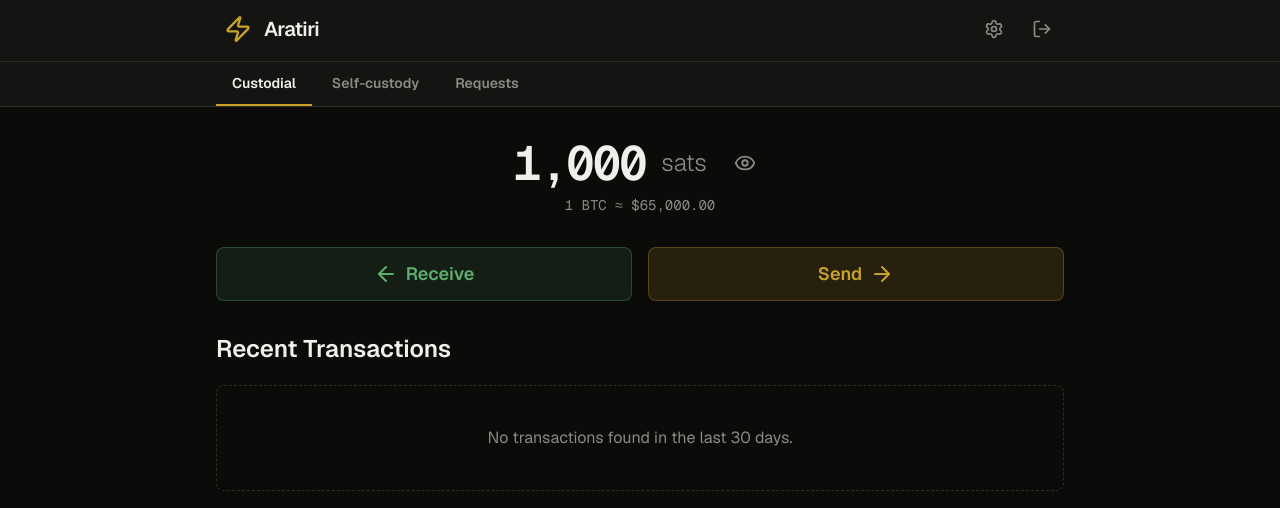
Scenario: Request Center authenticated flows › shows the empty request state when there are no payment requests
Click the button "Requests": (487, 84) [439,62,535,106]
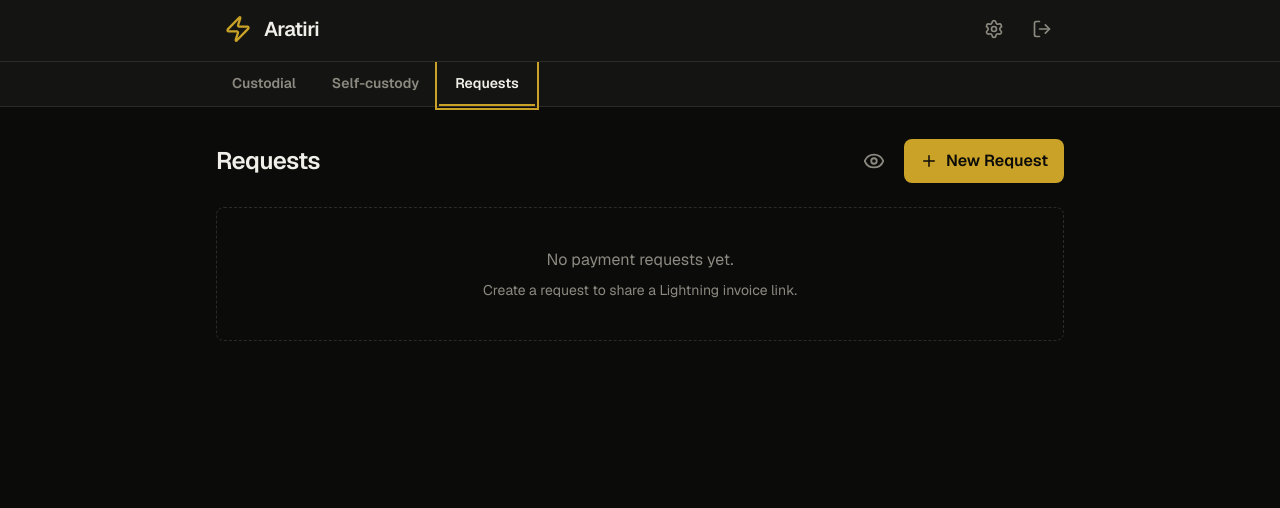
Check: the heading "Requests" is shown, box [216,145,320,177]
Check: the text "No payment requests yet." is shown, box [546,249,734,270]
Check: the text "Create a request to share a Lightning invoice link." is shown, box [483,281,797,299]
